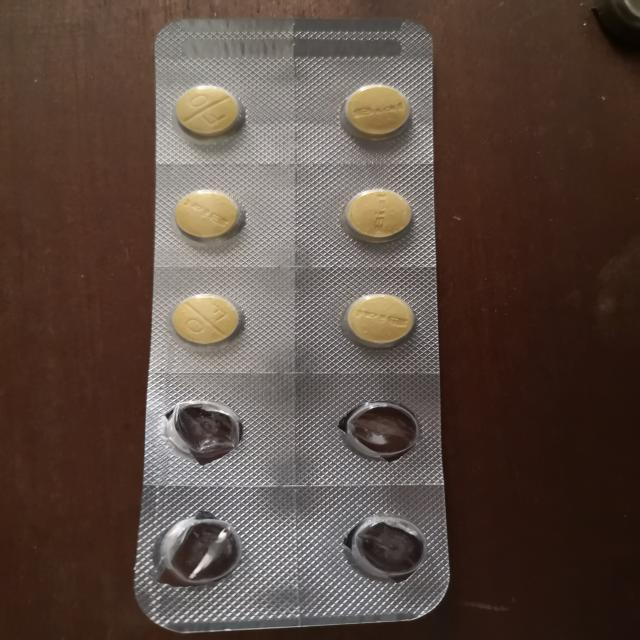Empty: (144, 510, 256, 590), (157, 397, 262, 468), (340, 515, 434, 587), (338, 400, 432, 468)
Pill: (321, 76, 424, 145), (161, 182, 258, 250), (159, 287, 256, 353), (333, 287, 424, 355), (327, 184, 419, 247), (168, 79, 252, 145)
